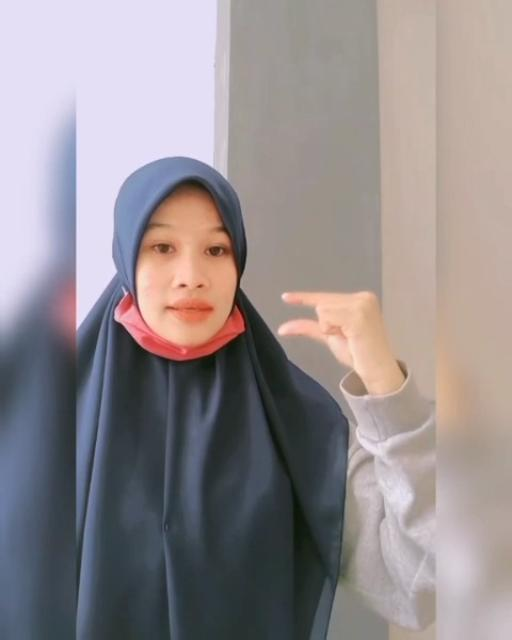G: (278, 286, 394, 376)
